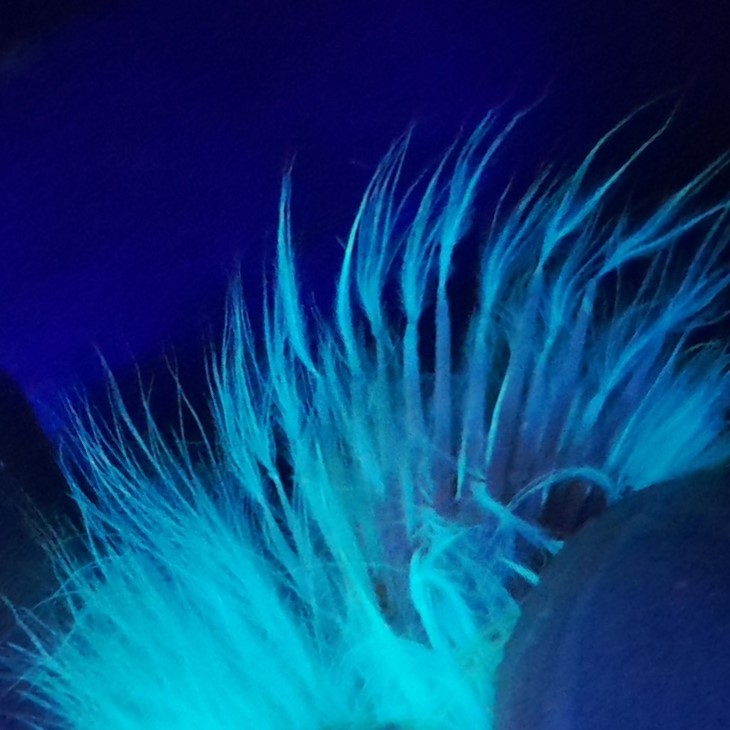male: (300, 268, 669, 606)
